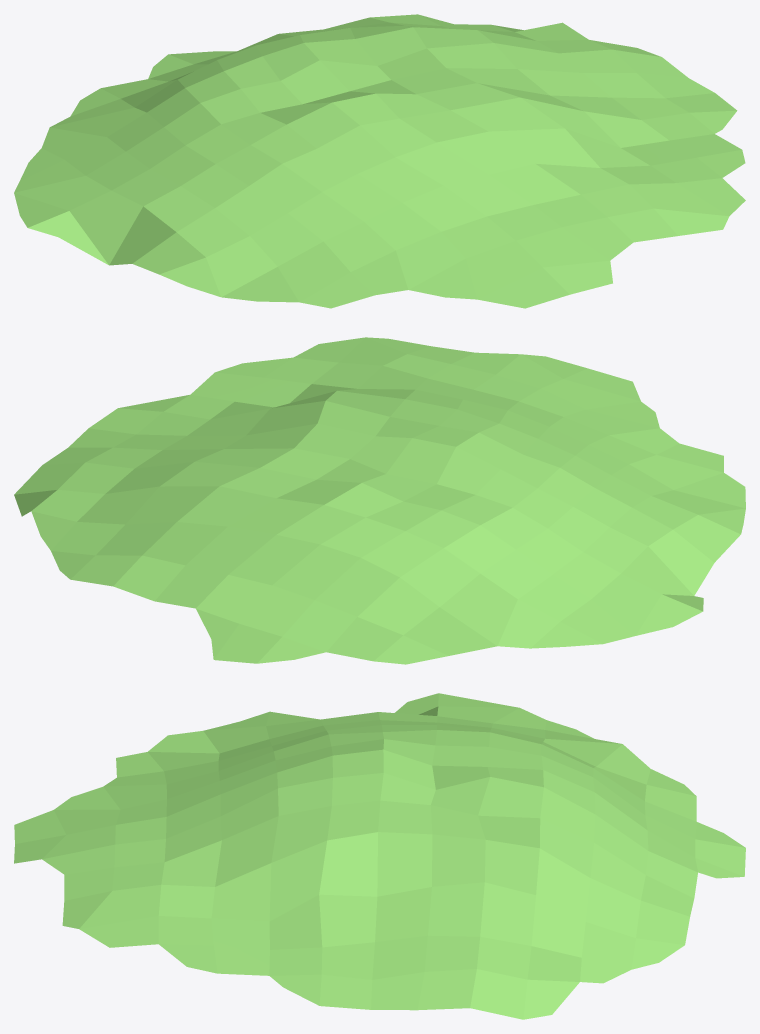
The model's file is Small_Terrain.fbx.
3 renders of one model, top to bottom at view 1: azimuth 30°, elevation 25°; view 2: azimuth 150°, elevation 25°; view 3: azimuth 270°, elevation 25°, orthographic.
Parts seen in each view (by area): view 1: terrain_green_hill_part; view 2: terrain_green_hill_part; view 3: terrain_green_hill_part.
Boxes of the visible parts, bbox=[...] form: terrain_green_hill_part: bbox=[14, 14, 745, 308]; terrain_green_hill_part: bbox=[14, 337, 745, 664]; terrain_green_hill_part: bbox=[14, 693, 745, 1019].
Size of the model in its own units: 1625 by 238 by 1585.
